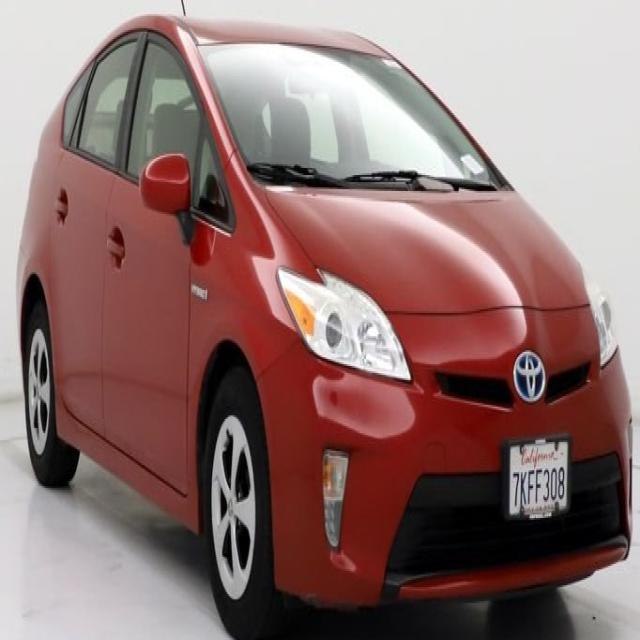maroon: (24, 11, 635, 577)
